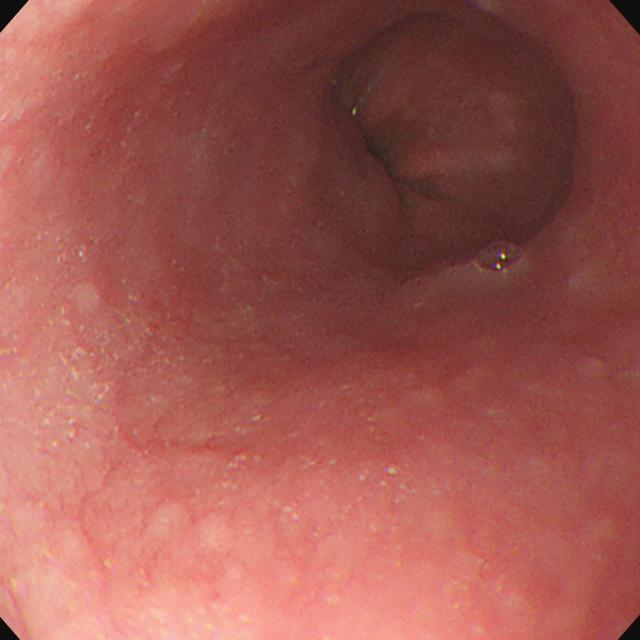I: (306, 7, 578, 277)
